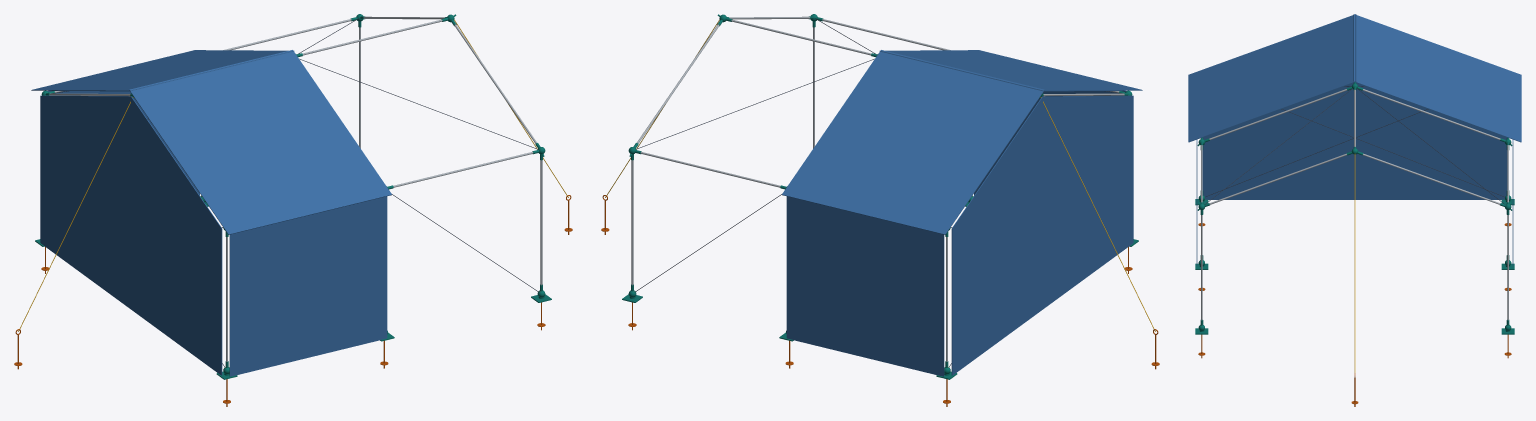
The picture shows the model from 3 angles, left to right: view 1: azimuth 30°, elevation 25°; view 2: azimuth 150°, elevation 25°; view 3: azimuth 270°, elevation 25°; orthographic projection. The views are drawn at different scales.
Visible parts, largest first — view 1: Tarpaulin skin (rear bay shown); view 2: Tarpaulin skin (rear bay shown); view 3: Tarpaulin skin (rear bay shown), Guy line, EMT rafter, 2.06 m ((2000.0, -1)), EMT rafter, 2.06 m ((2000.0, 1)), EMT rafter, 2.06 m, EMT rafter, 2.06 m ((4000.0, 1)).
Part boxes in pixels (bbox=[...]): Tarpaulin skin (rear bay shown): bbox=[31, 50, 391, 376]; Tarpaulin skin (rear bay shown): bbox=[782, 50, 1142, 376]; Tarpaulin skin (rear bay shown): bbox=[1188, 14, 1521, 265]; Guy line: bbox=[1354, 154, 1355, 372]; EMT rafter, 2.06 m ((2000.0, -1)): bbox=[1209, 89, 1347, 139]; EMT rafter, 2.06 m ((2000.0, 1)): bbox=[1362, 89, 1500, 139]; EMT rafter, 2.06 m: bbox=[1209, 153, 1346, 204]; EMT rafter, 2.06 m ((4000.0, 1)): bbox=[1363, 153, 1500, 204].
Size of the model in its own units: 7.09 by 3.06 by 4.35.
